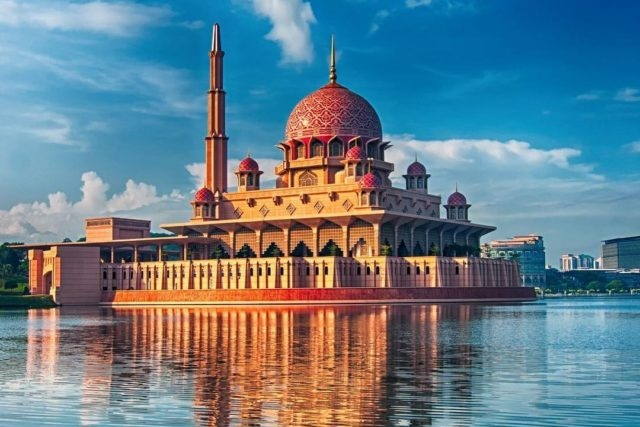Mosque: (56, 20, 518, 304)
